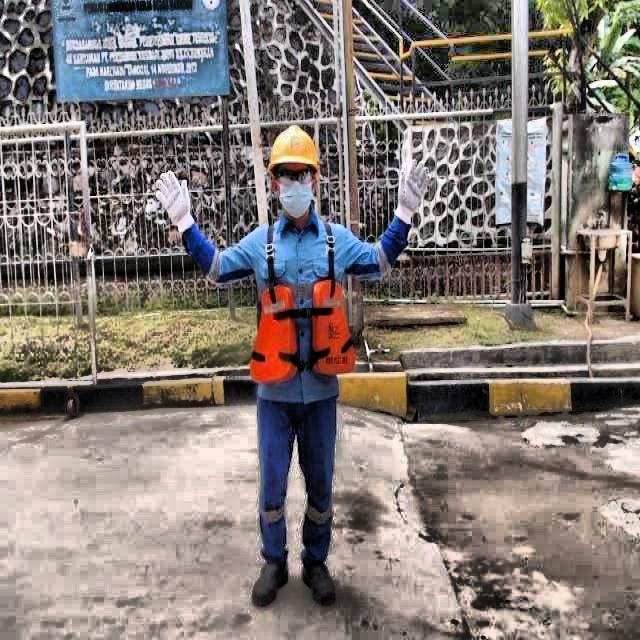safety_helmet: (266, 116, 325, 183)
safety_jacket: (244, 264, 363, 396)
